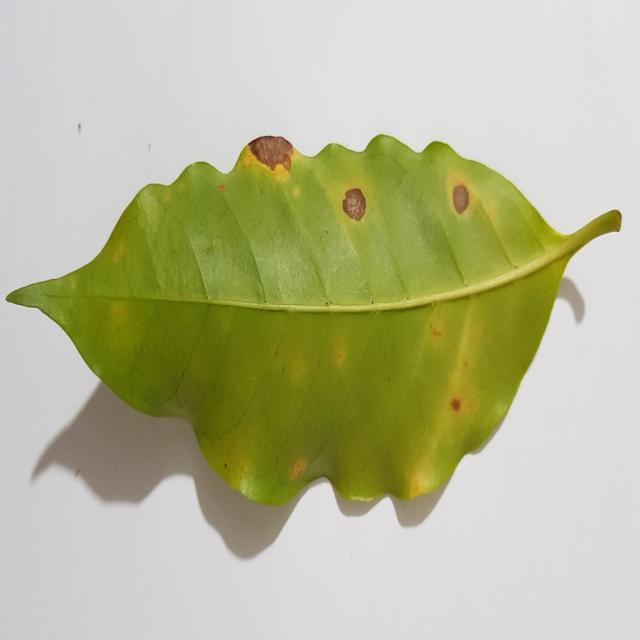Enfermedad-Mancha-de-hierro: (6, 134, 623, 509)
